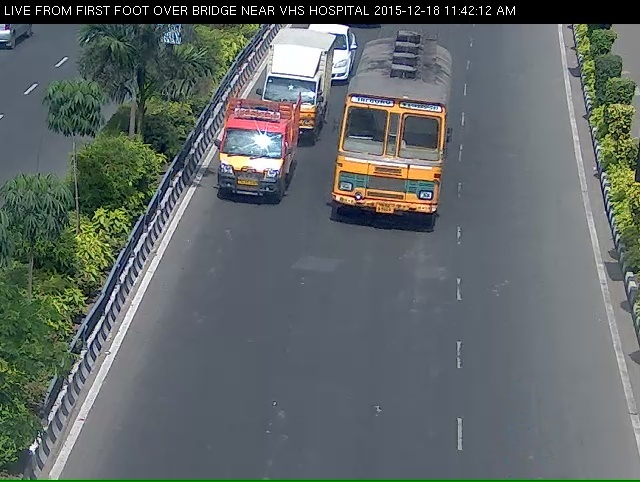Auto: (212, 96, 304, 220), (263, 37, 325, 142)
Bus: (350, 46, 447, 243)
Car: (306, 27, 357, 91)
